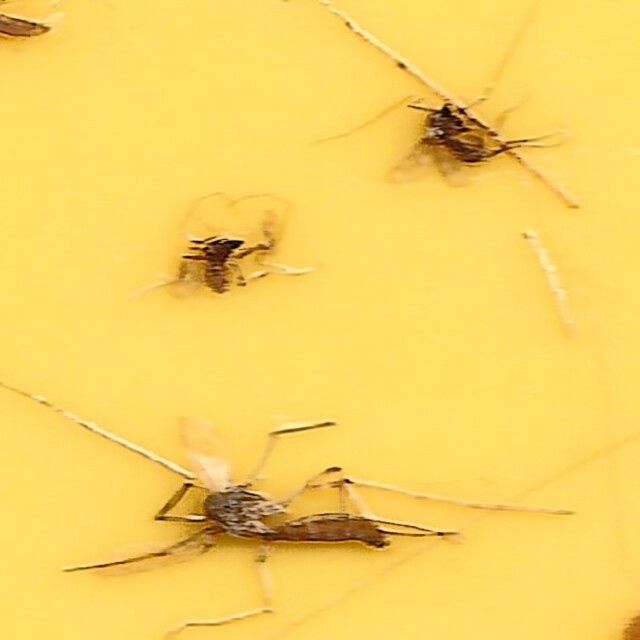Nematocera: (137, 437, 406, 549), (399, 91, 503, 180), (164, 232, 293, 283)
